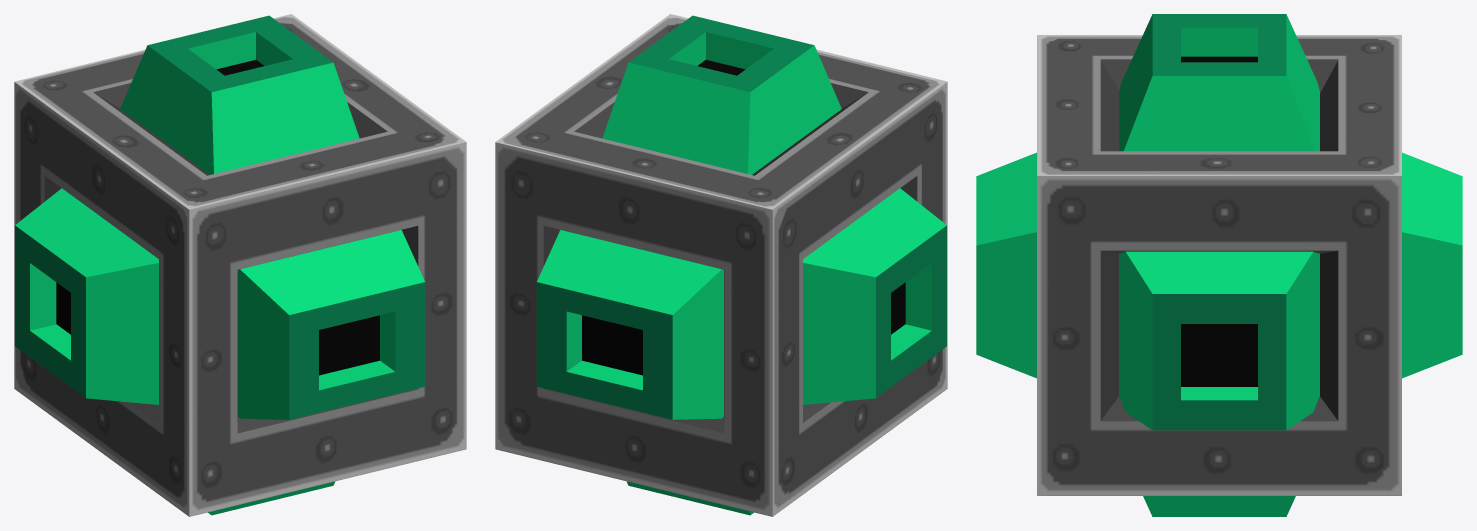
File: moving_block.FBX
3 views of the same model, side by side, from view 1: azimuth 30°, elevation 25°; view 2: azimuth 150°, elevation 25°; view 3: azimuth 270°, elevation 25° (orthographic). The views are drawn at different scales.
Visible parts, largest first — view 1: moving_block; view 2: moving_block; view 3: moving_block.
Boxes of the visible parts, <box> form: moving_block: <box>14,14,466,516</box>; moving_block: <box>495,14,947,516</box>; moving_block: <box>976,14,1462,516</box>.
Size of the model in its own units: 326 by 347 by 347.
